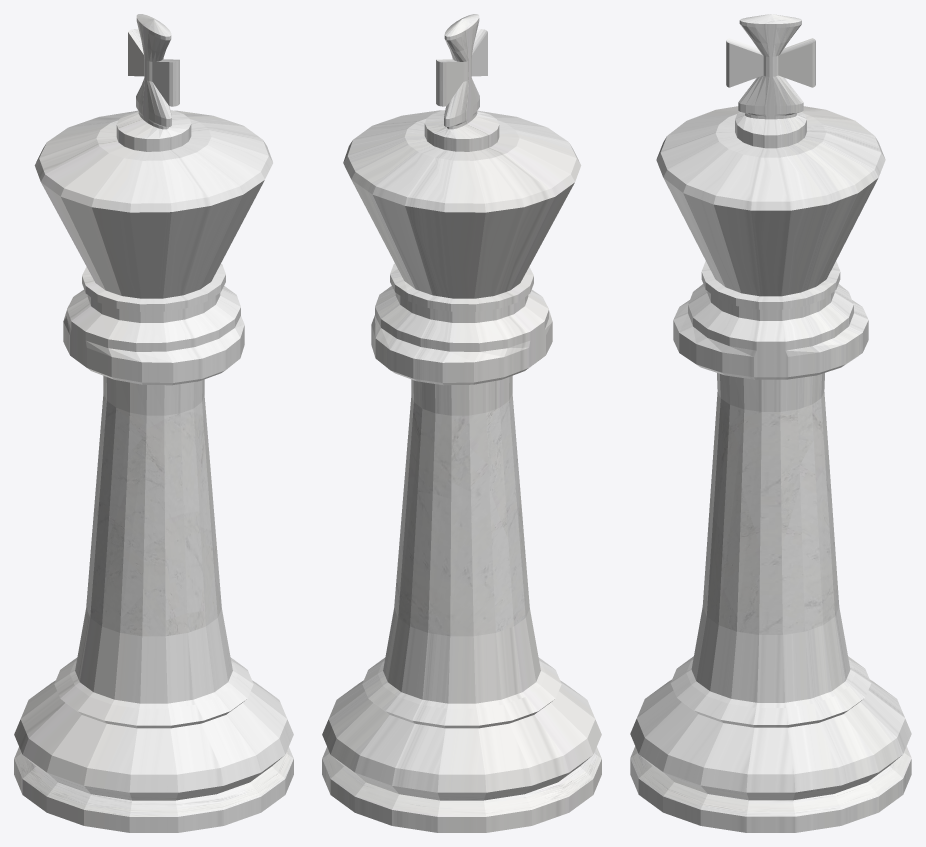
File: w_king.obj
3 views of the same model, side by side, from view 1: azimuth 30°, elevation 25°; view 2: azimuth 150°, elevation 25°; view 3: azimuth 270°, elevation 25° (orthographic).
Bounding box in the file's own units: 0.1422 × 0.4363 × 0.1443.
1 material, 1 textured.
